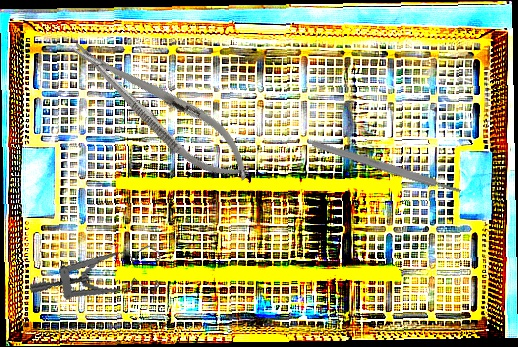Needle Holder: (59, 24, 263, 196)
Scalpel Handle: (311, 139, 462, 196)
Speculum: (28, 220, 168, 322)
